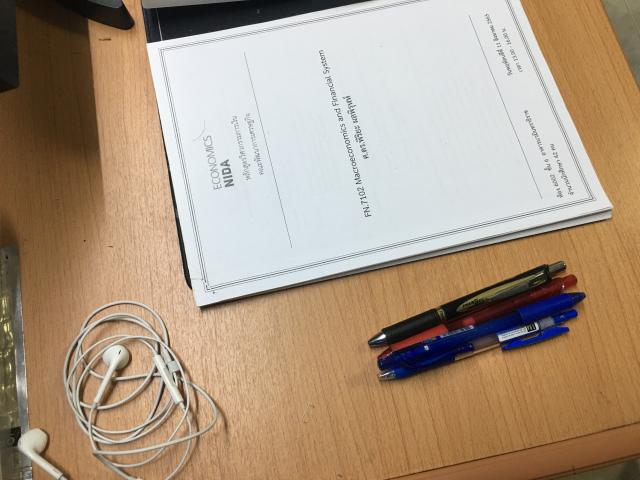Pen: (370, 265, 586, 384)
paper: (146, 1, 612, 306)
wire: (64, 301, 218, 479), (18, 429, 66, 480)
